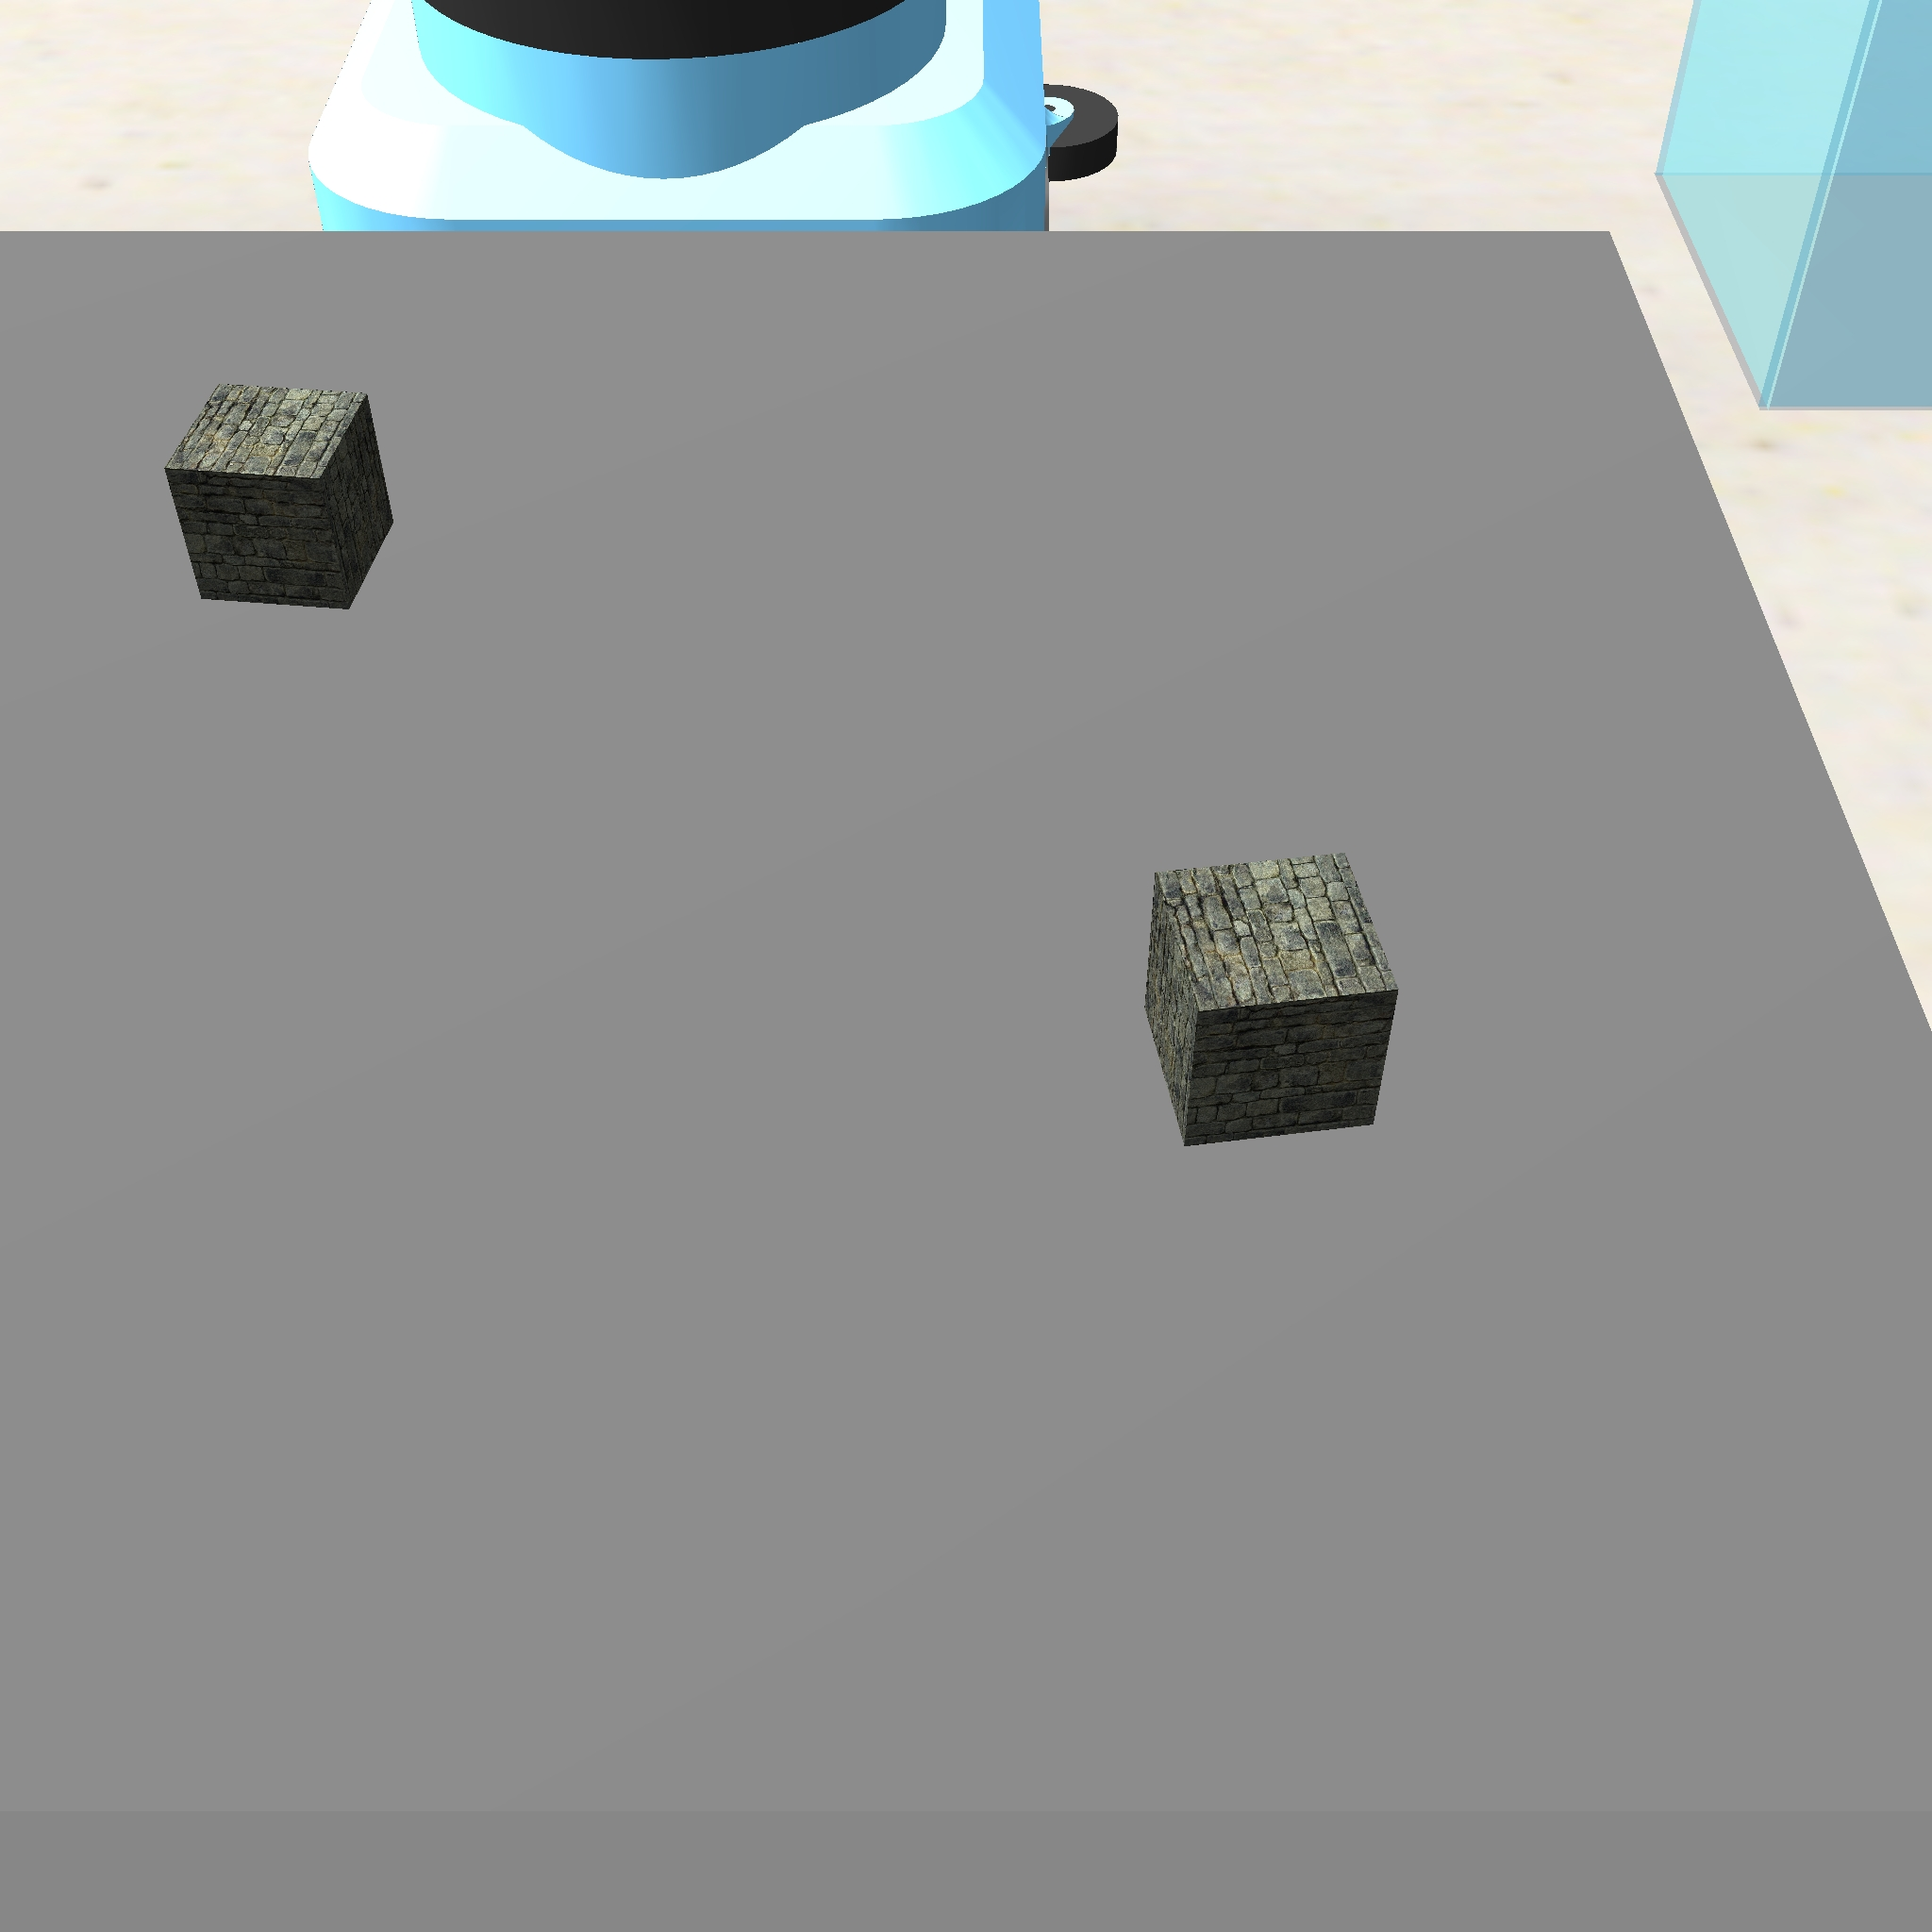cube: (1131, 844, 1412, 1162), (156, 375, 405, 619)
